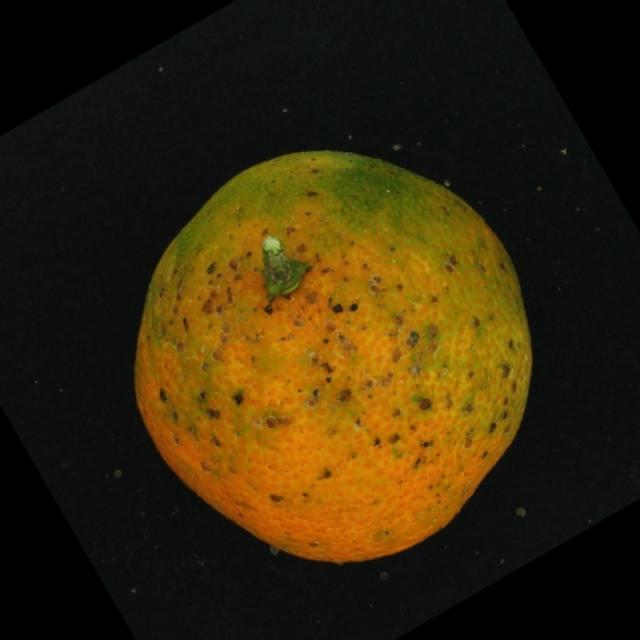grenning: (128, 136, 539, 577)
